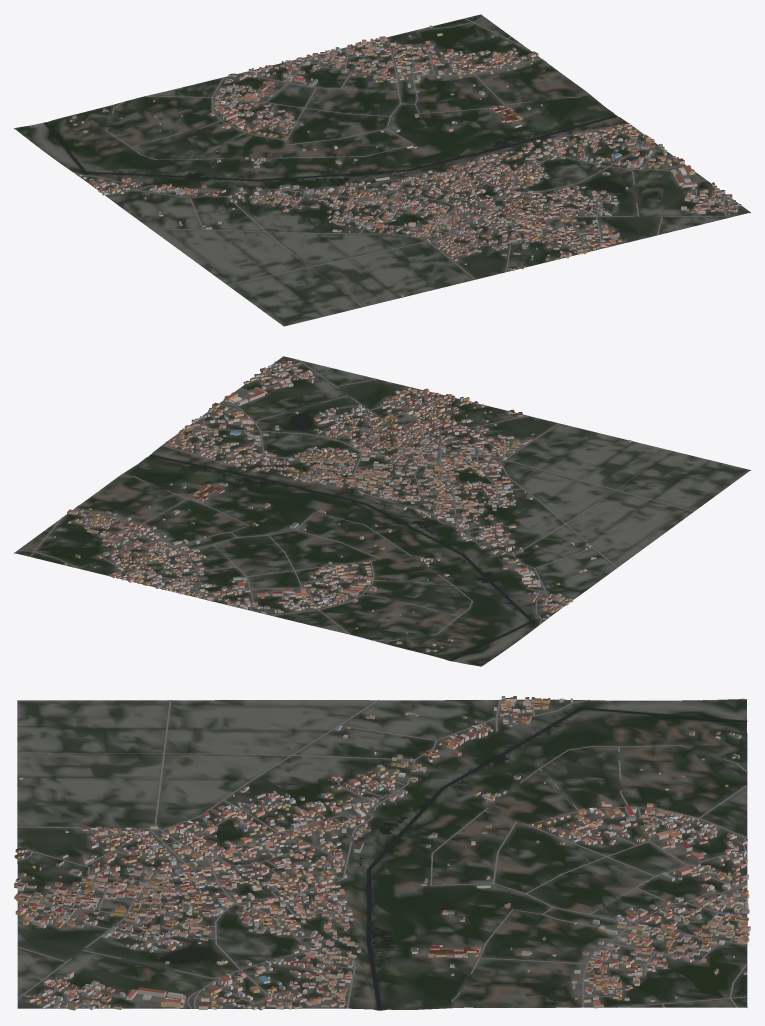
The picture shows the model from 3 angles, top to bottom: view 1: azimuth 30°, elevation 25°; view 2: azimuth 150°, elevation 25°; view 3: azimuth 270°, elevation 25°; orthographic projection. The views are drawn at different scales.
Visible parts, largest first — view 1: ground, buildings, roads, water; view 2: ground, buildings, roads, water; view 3: ground, buildings, roads, water.
Part boxes in pixels (x1=…): ground: x1=14, y1=14, x2=750, y2=326; buildings: x1=70, y1=25, x2=741, y2=296; roads: x1=14, y1=17, x2=735, y2=307; water: x1=44, y1=115, x2=625, y2=192; ground: x1=14, y1=356, x2=750, y2=666; buildings: x1=53, y1=359, x2=631, y2=652; roads: x1=17, y1=359, x2=694, y2=666; water: x1=149, y1=412, x2=533, y2=661; ground: x1=17, y1=699, x2=747, y2=1010; buildings: x1=14, y1=696, x2=750, y2=1010; roads: x1=17, y1=698, x2=747, y2=1008; water: x1=159, y1=707, x2=747, y2=1010.
Size of the model in its own units: 1413 by 18.37 by 1416.
